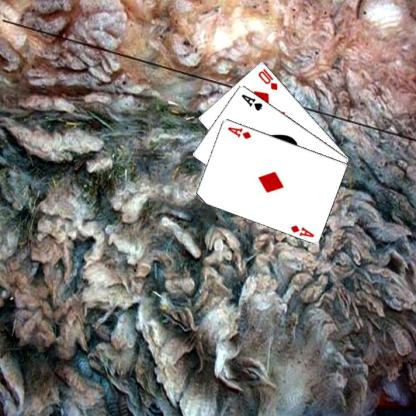10D: (258, 66, 280, 91)
AD: (227, 124, 254, 140), (289, 223, 316, 238)
AS: (241, 91, 265, 112)
